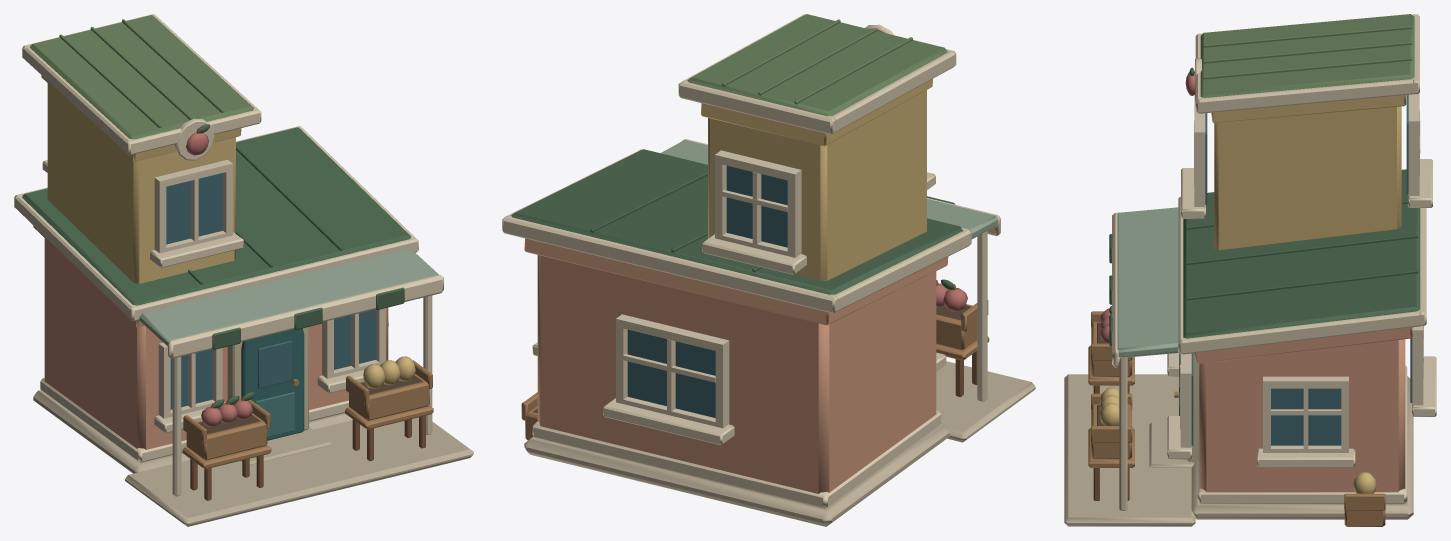
Rendered from grocer_level_3.glb.
The picture shows the model from 3 angles, left to right: view 1: azimuth 30°, elevation 25°; view 2: azimuth 150°, elevation 25°; view 3: azimuth 270°, elevation 25°; orthographic projection. The views are drawn at different scales.
Parts seen in each view (by area): view 1: grocer_level_3_runtime; view 2: grocer_level_3_runtime; view 3: grocer_level_3_runtime.
Part boxes in pixels (x1,y1,x2,y2): grocer_level_3_runtime: [14, 14, 473, 526]; grocer_level_3_runtime: [502, 14, 1035, 526]; grocer_level_3_runtime: [1064, 14, 1436, 526].
Size of the model in its own units: 3.87 by 4.52 by 4.05.
